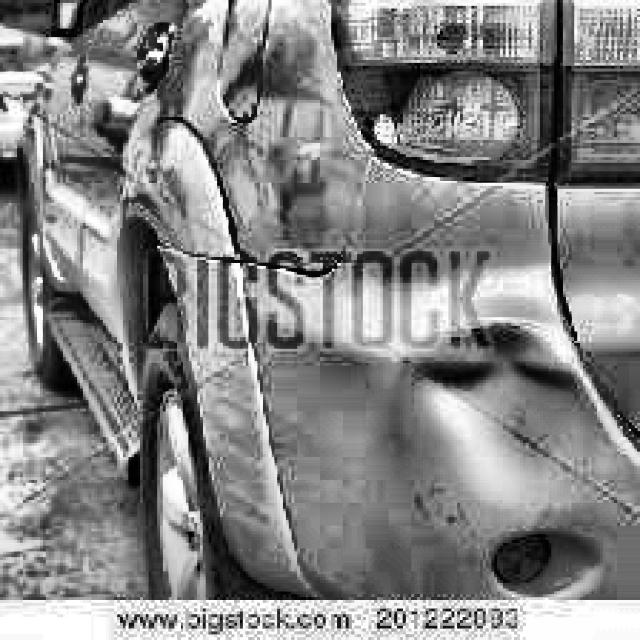bumper_dent: (438, 324, 580, 485), (287, 229, 429, 370)
